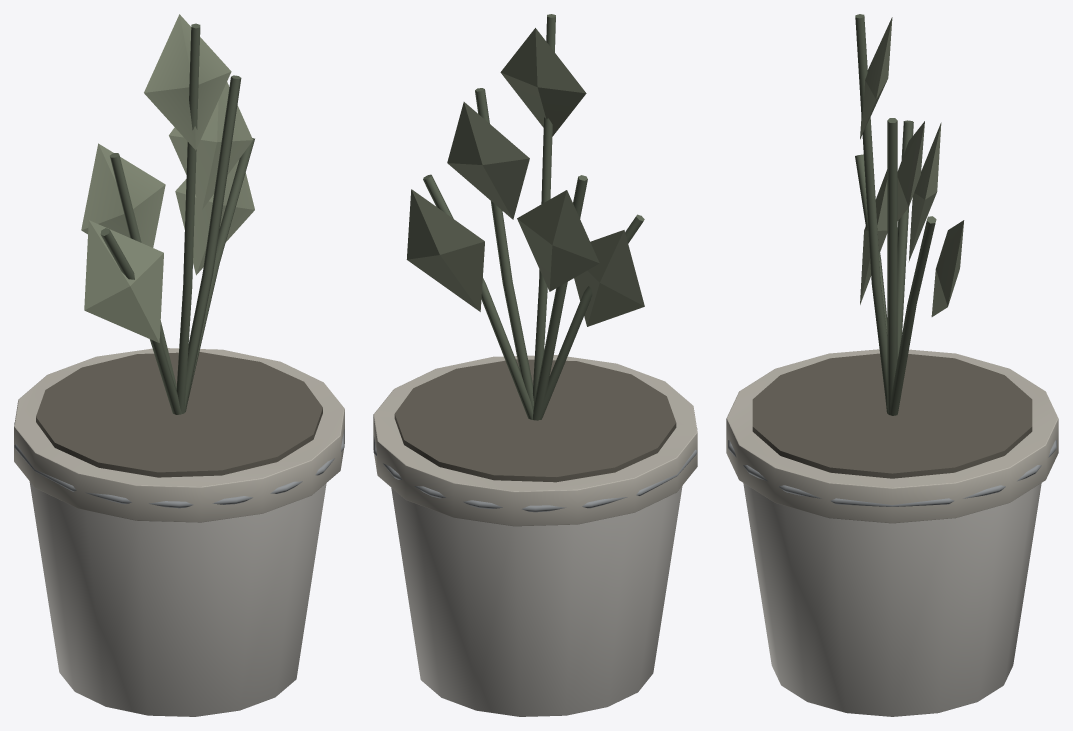
The model's file is plant_pot.glb.
3 renders of one model, left to right at view 1: azimuth 30°, elevation 25°; view 2: azimuth 150°, elevation 25°; view 3: azimuth 270°, elevation 25°, orthographic.
Bounding box in the file's own units: 1.02 × 2.2 × 1.02.
